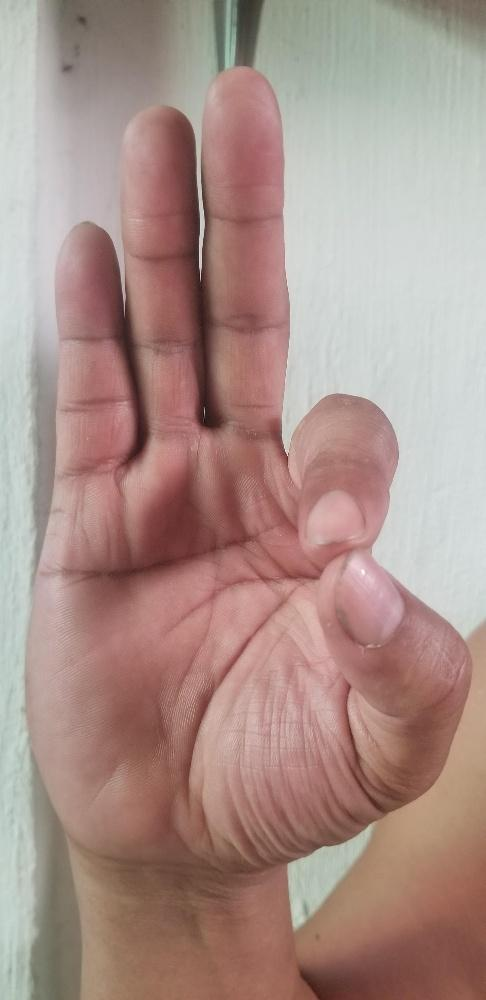f: (24, 65, 470, 867)
